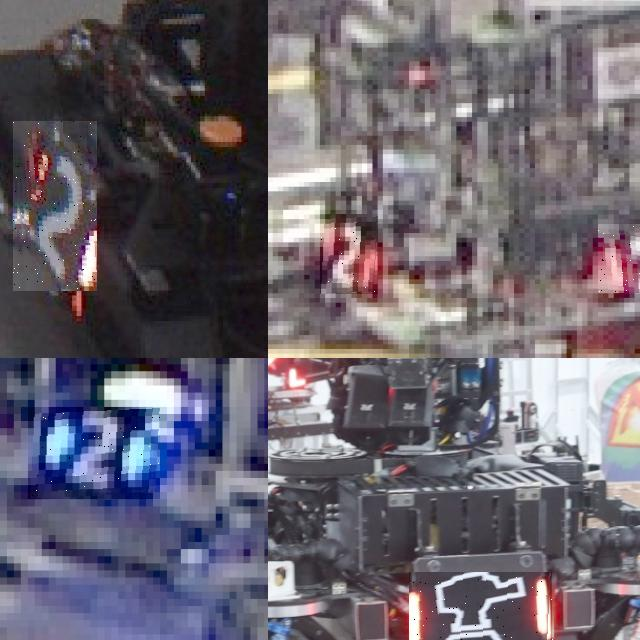B2: (28, 407, 160, 499)
R2: (13, 121, 97, 291), (320, 214, 378, 294), (598, 223, 640, 293)
Rs: (409, 571, 553, 640)
